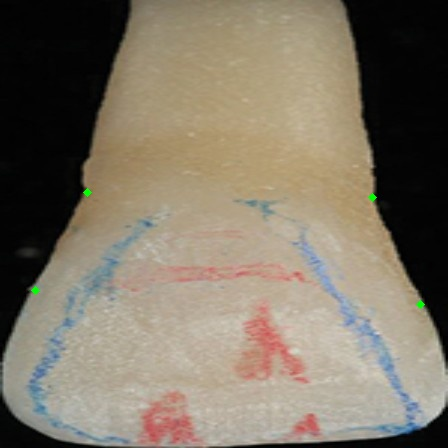coin_1: (87, 192, 107, 212)
coin_2: (35, 290, 55, 310)
coin_3: (372, 197, 392, 217)
coin_4: (420, 304, 440, 324)
